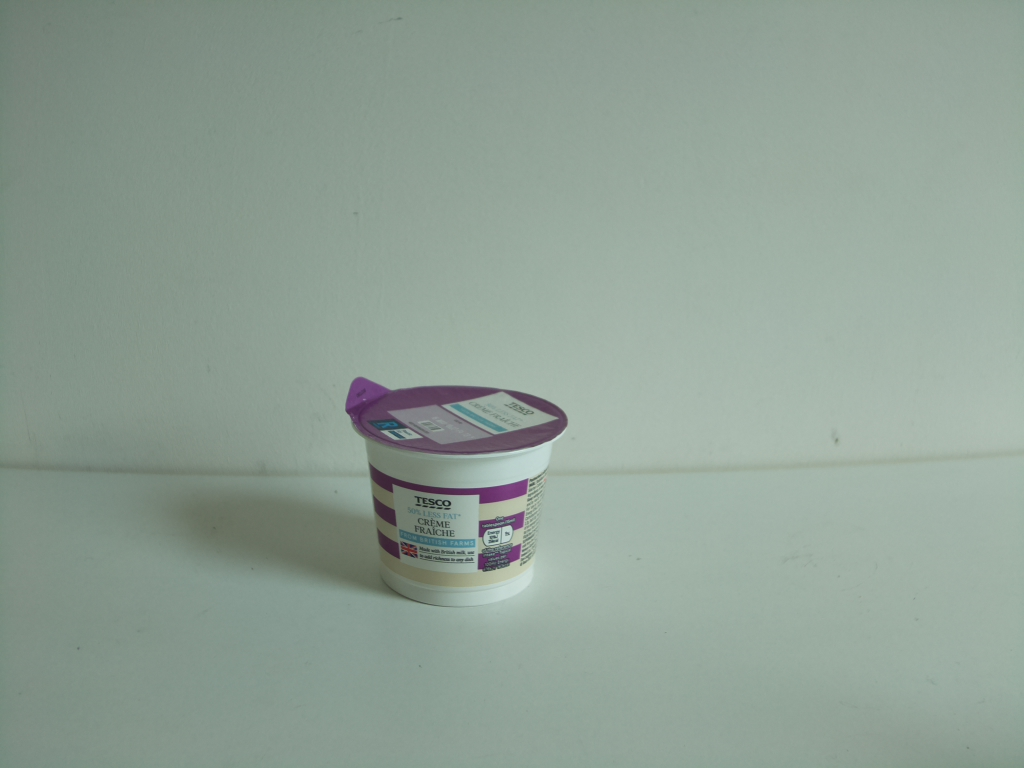cream: (342, 375, 575, 608)
